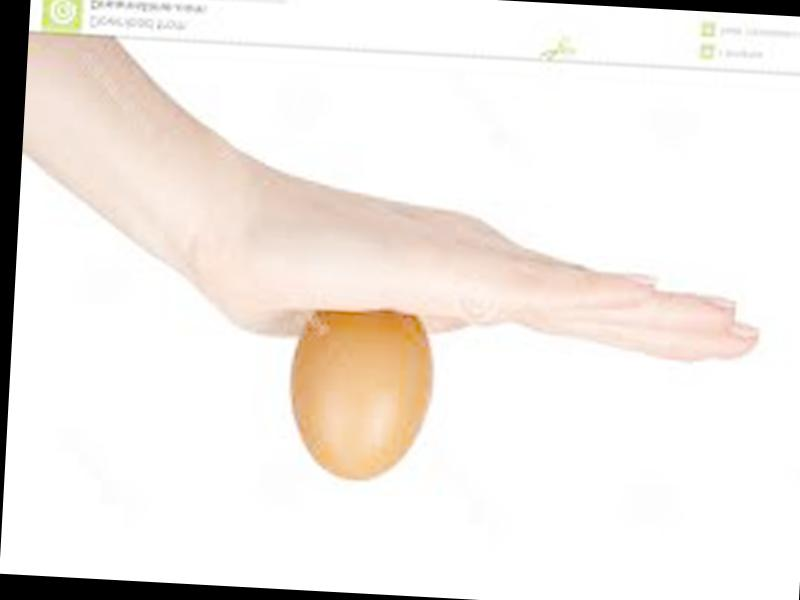Eggs: (288, 301, 437, 483)
